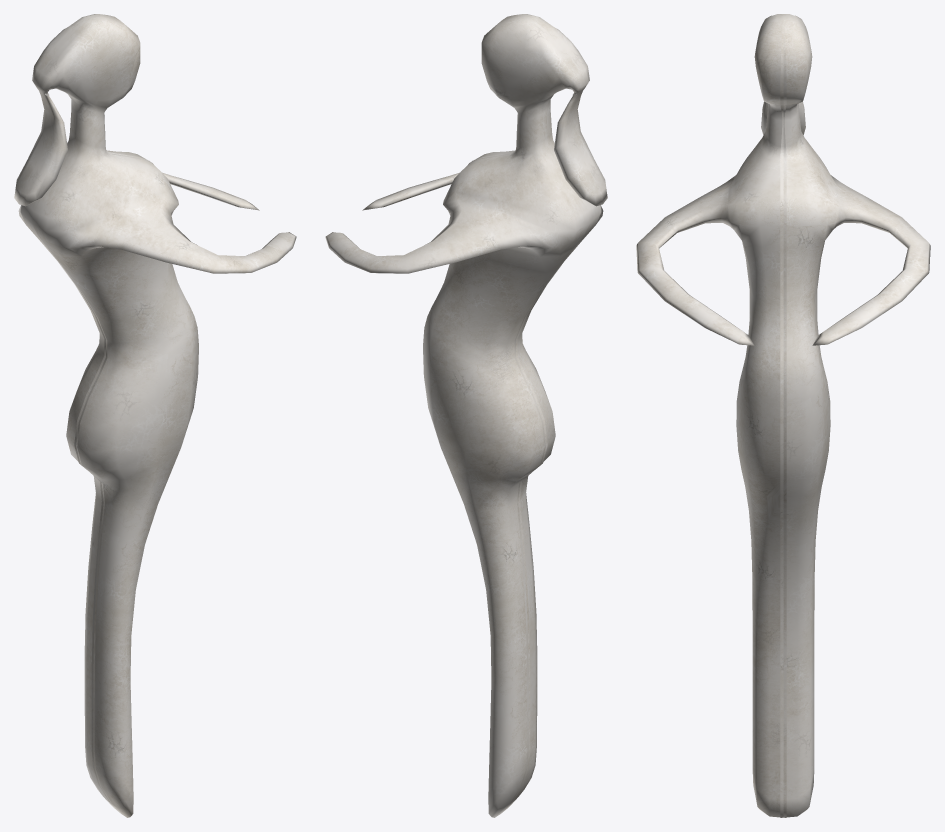
Rendered from dancer.glb.
The picture shows the model from 3 angles, left to right: view 1: azimuth 30°, elevation 25°; view 2: azimuth 150°, elevation 25°; view 3: azimuth 270°, elevation 25°; orthographic projection.
Visible parts, largest first — view 1: dancer; view 2: dancer; view 3: dancer.
Part boxes in pixels (x1=…): dancer: x1=14, y1=14, x2=296, y2=817; dancer: x1=325, y1=14, x2=607, y2=817; dancer: x1=636, y1=14, x2=930, y2=817.
Size of the model in its own units: 0.0244 by 0.0731 by 0.0248.
Materials: 1 (1 with a texture image).
